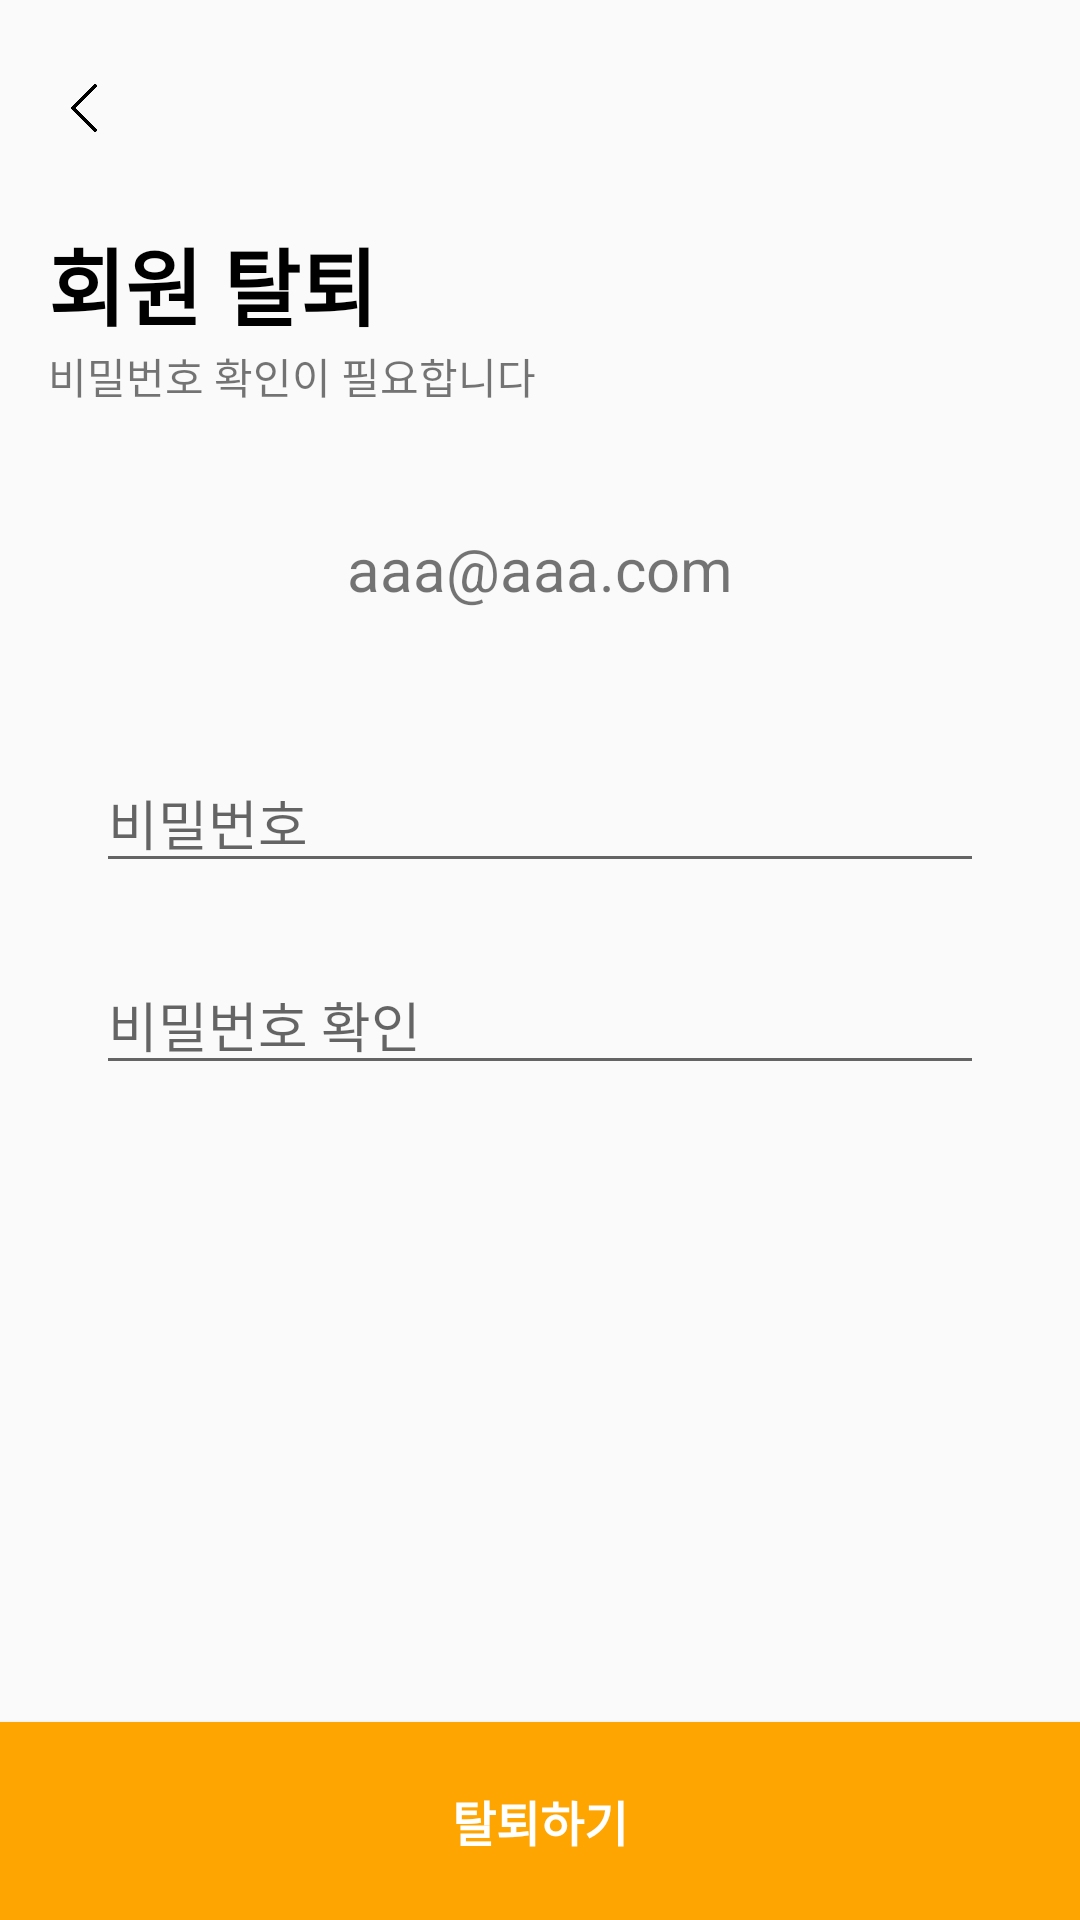

Point at icon controls on the screen. Image size 1080×1920, points as point (x, y).
back: point (84, 108)
